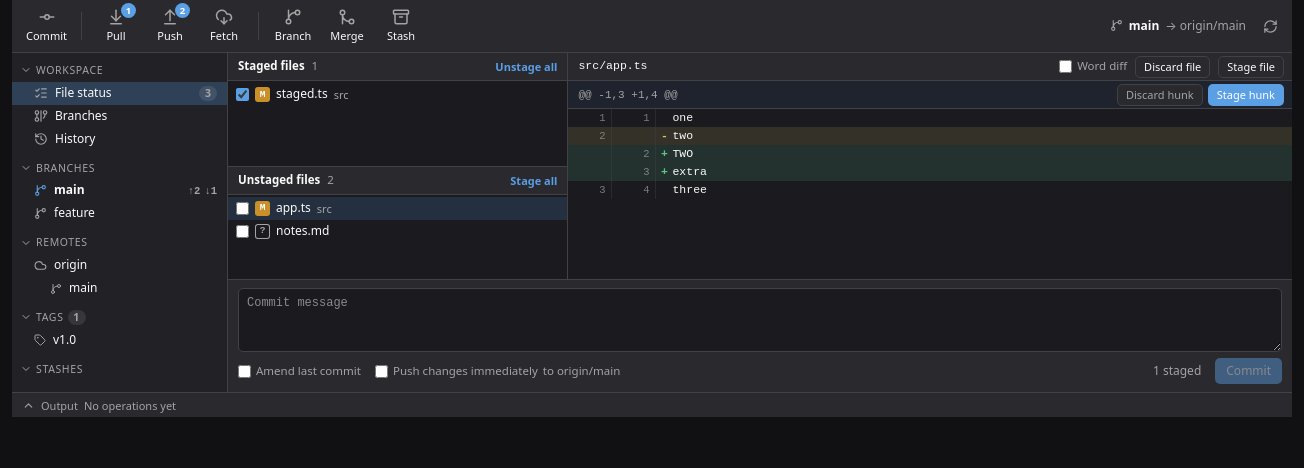
Test case: Repository view: File status › shows git's raw error in the output drawer
What coordinates should you click on to do the following:
click the checkbox named "Stage src/app.ts"
I would click on:
 (242, 208)
Its box is [236,202,249,215].
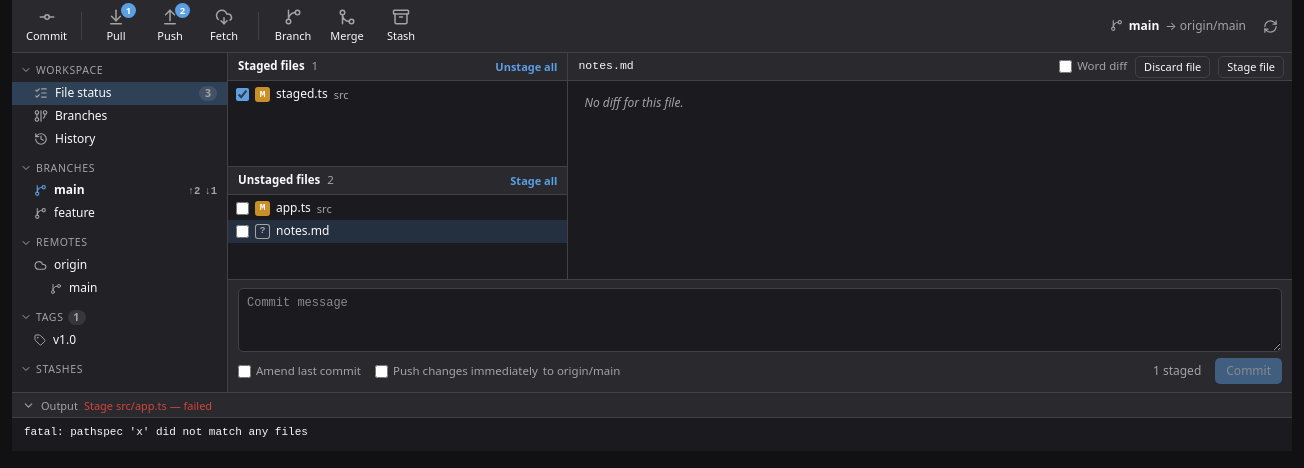
expect the text named "Git output" reads "fatal: pathspec 'x' did not match any files": met, box [24,426,308,438]
